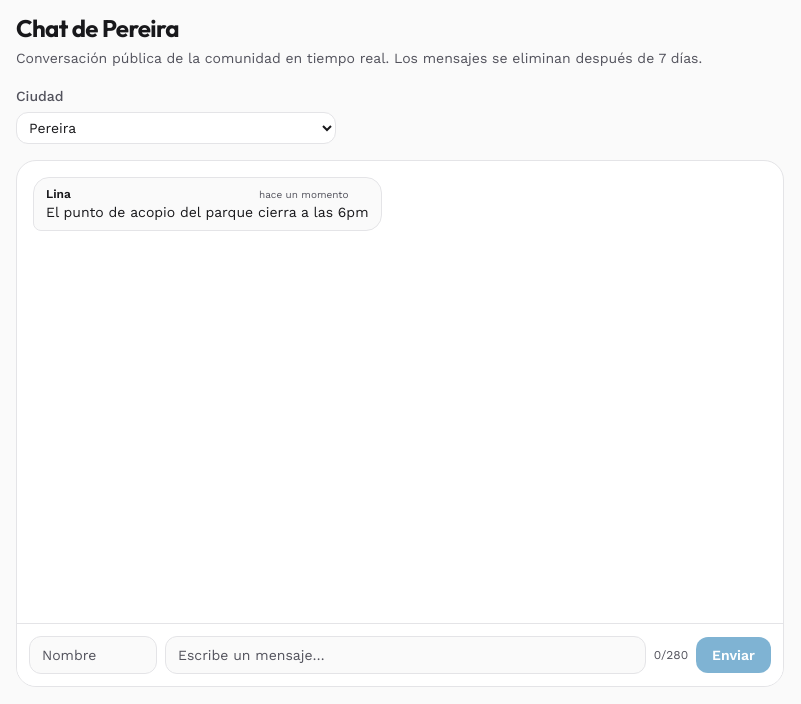
Test: ChatPage › publica un mensaje anónimo en el chat
Check: the text "El punto de acopio del parque cierra a las 6pm" is shown, box [46,202,368,222]
In the field named "Tu nombre": (93, 654) [29,636,157,674], type "Ana"
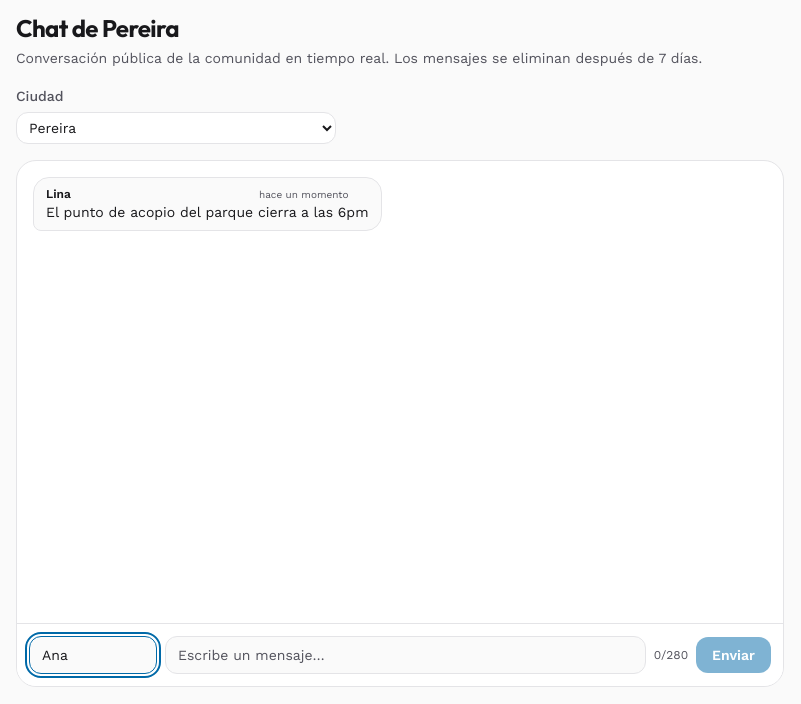
In the text box labelled "mensaje": (405, 654) [165,636,646,674], type "Se necesita agua en el barrio Centro"
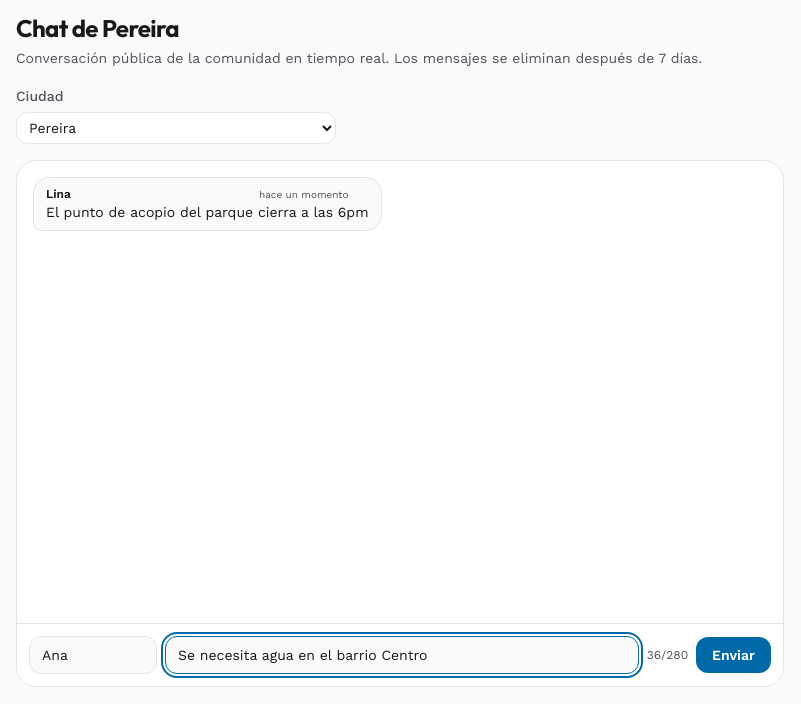
Click the button "Enviar": (734, 654) [696,636,771,672]
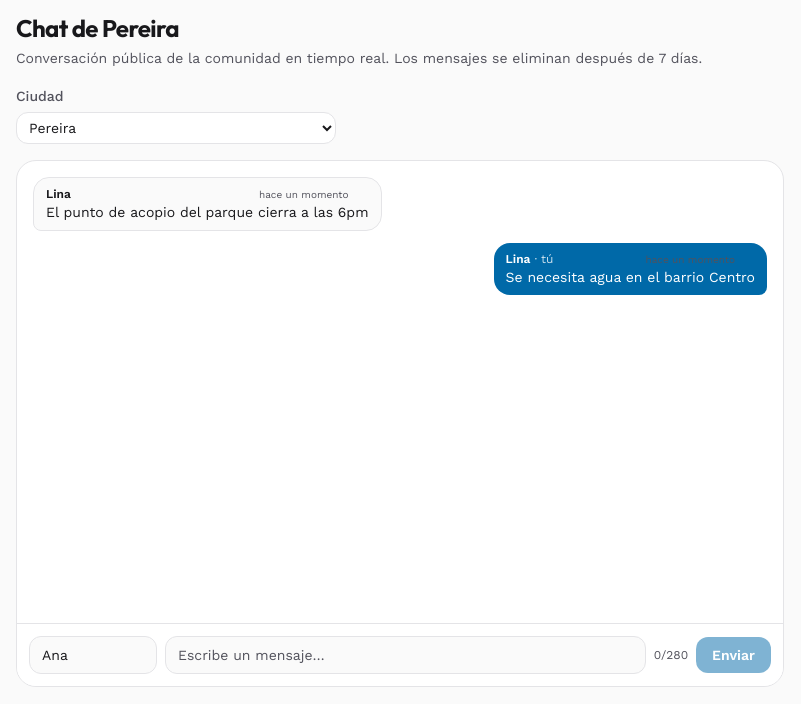
Check: the text "Se necesita agua en el barrio Centro" is shown, box [506,267,755,287]
Check: the text "· tú" is shown, box [534,252,554,266]
